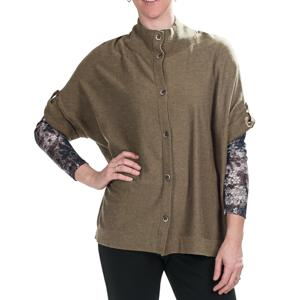C_cardigan sweater: (50, 39, 267, 261)
